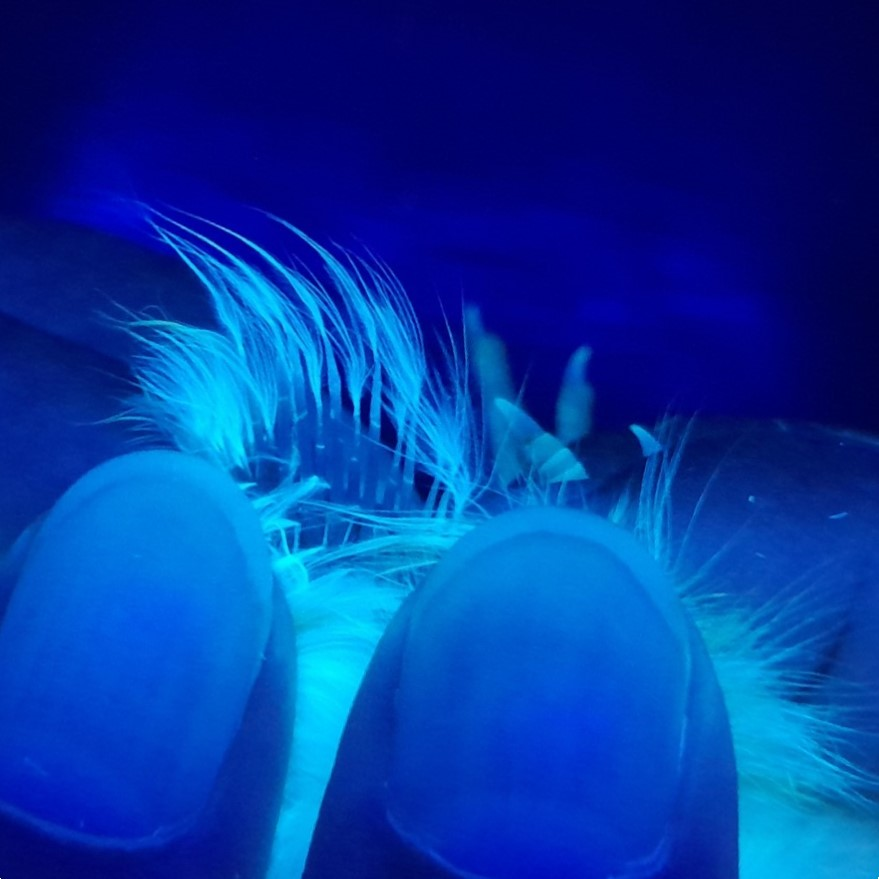male: (224, 330, 494, 592)
